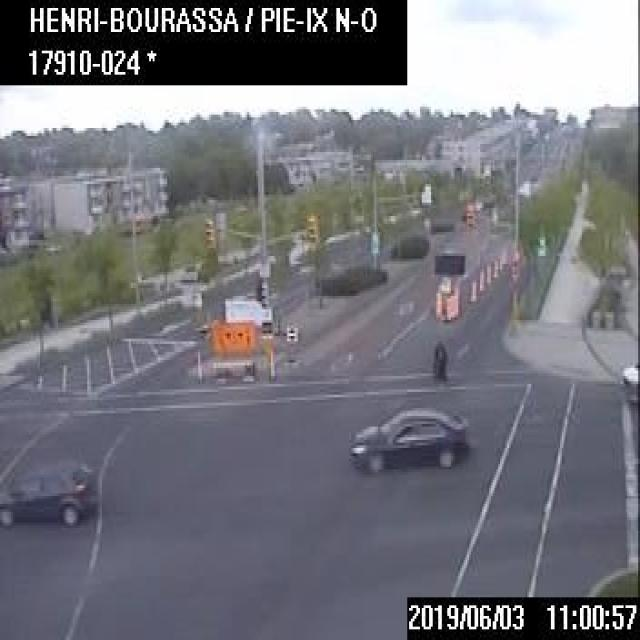construction: (193, 293, 276, 384), (431, 250, 464, 314), (434, 290, 440, 316), (469, 279, 476, 300), (449, 292, 455, 316), (445, 295, 450, 320), (491, 257, 497, 276), (478, 268, 483, 290), (485, 264, 490, 282)
pedestrian: (432, 338, 447, 380)
vehicle: (349, 400, 466, 472), (0, 461, 98, 531), (620, 361, 638, 398)
